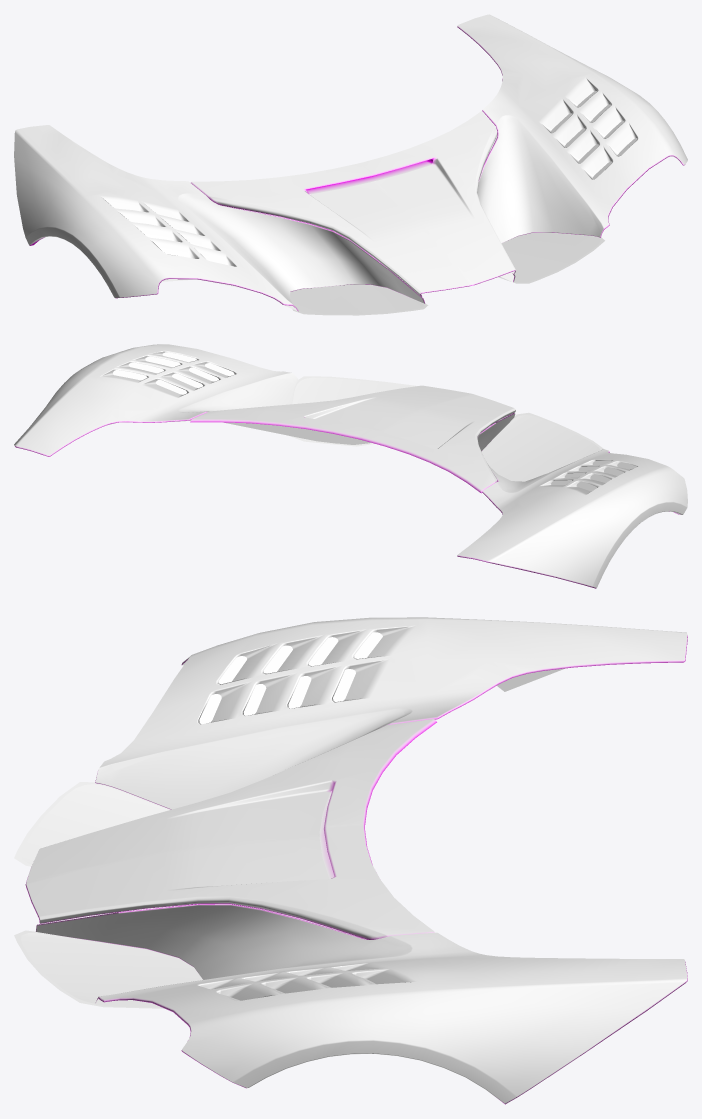
Rendered from Car_Ford_GT_2017_Hood_SetL.fbx.
3 views of the same model, one above another, from view 1: azimuth 30°, elevation 25°; view 2: azimuth 150°, elevation 25°; view 3: azimuth 270°, elevation 25° (orthographic). The views are drawn at different scales.
Parts seen in each view (by area): view 1: Hood 6; view 2: Hood 6; view 3: Hood 6.
Boxes of the visible parts, <box> form: Hood 6: <box>14,14,687,315</box>; Hood 6: <box>14,344,687,588</box>; Hood 6: <box>14,617,687,1104</box>.
Size of the model in its own units: 1.96 by 0.2591 by 1.33.
